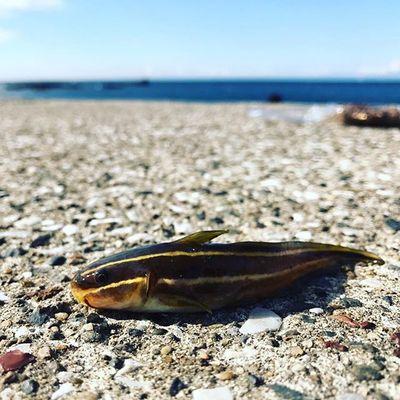gonzui: (64, 218, 395, 318)
